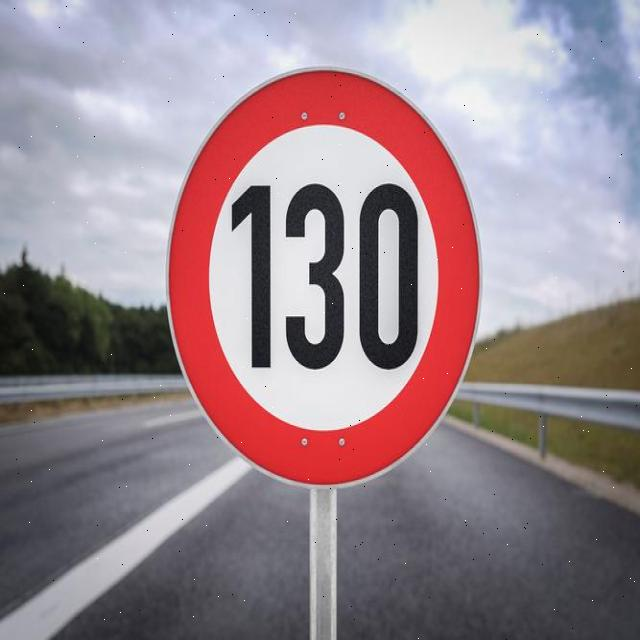speed limit 130: (165, 65, 483, 488)
